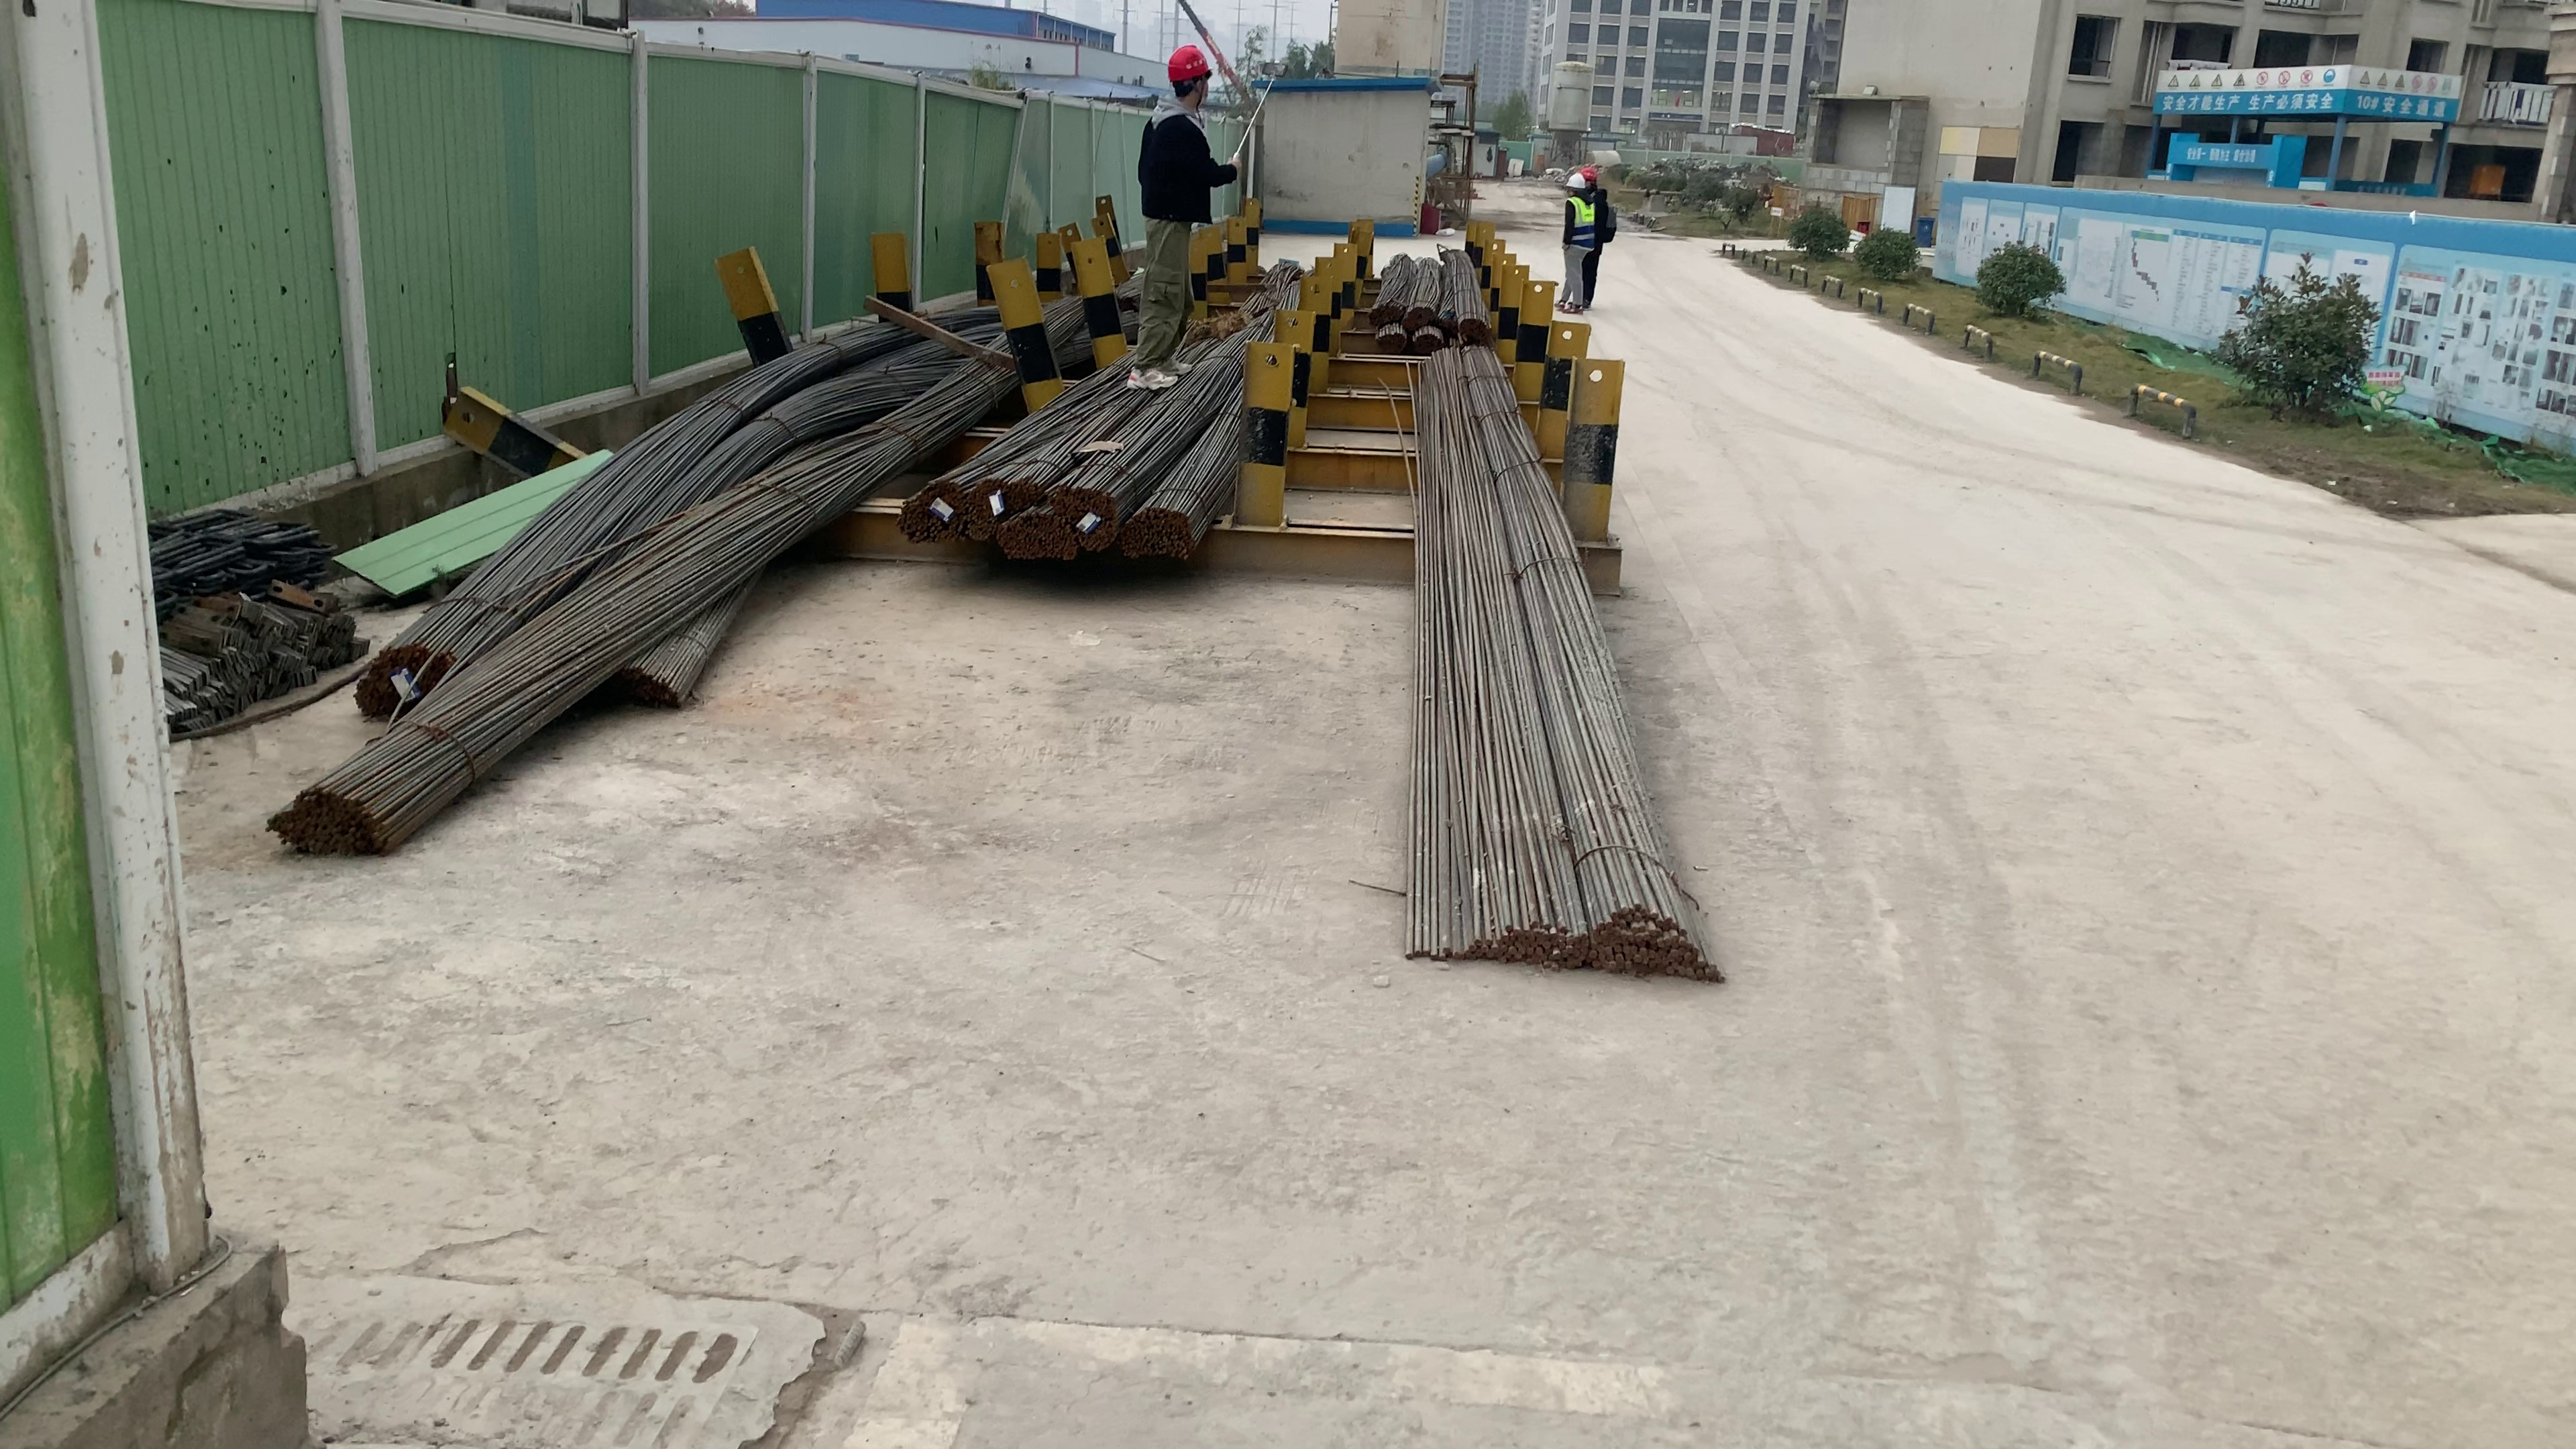rebar: (1408, 897, 1725, 991), (260, 782, 389, 855), (350, 637, 455, 708), (897, 479, 971, 545), (605, 663, 692, 717), (1123, 506, 1201, 561), (980, 472, 1035, 547), (1001, 513, 1074, 563), (1069, 481, 1111, 548), (1387, 327, 1435, 352), (1454, 308, 1491, 334), (1407, 299, 1433, 324), (1375, 304, 1398, 322)
